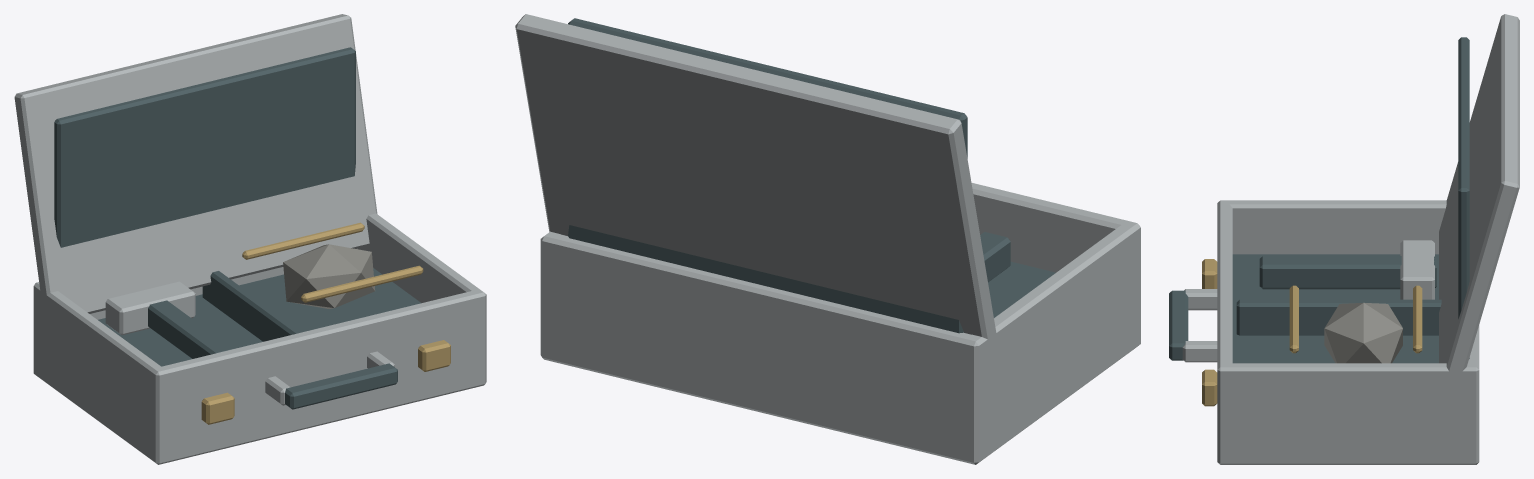
File: sample_case.glb
3 views of the same model, side by side, from view 1: azimuth 30°, elevation 25°; view 2: azimuth 150°, elevation 25°; view 3: azimuth 270°, elevation 25° (orthographic). The views are drawn at different scales.
Parts seen in each view (by area): view 1: Interior tampa, Tampa aberta, Parede.002, Parede, Base, Espuma, Parede.001, Amostra lunar, Divisoria, Cabeca martelo, Alca, Cabo martelo (+5 smaller); view 2: Tampa aberta, Parede.003, Parede, Base, Interior tampa, Parede.002, Espuma, Parede.001, Cabo martelo; view 3: Parede.001, Tampa aberta, Parede, Espuma, Cabo martelo, Divisoria, Base, Amostra lunar, Interior tampa, Parede.002, Cabeca martelo, Alca (+6 smaller).
Part boxes in pixels (<box>): Interior tampa: <box>54,47,355,247</box>; Tampa aberta: <box>14,14,377,313</box>; Parede.002: <box>151,290,482,447</box>; Parede: <box>33,282,167,449</box>; Base: <box>33,355,486,464</box>; Espuma: <box>98,268,421,366</box>; Parede.001: <box>358,213,486,369</box>; Amostra lunar: <box>283,244,375,308</box>; Divisoria: <box>202,271,302,341</box>; Cabeca martelo: <box>105,281,195,335</box>; Alca: <box>285,363,397,409</box>; Cabo martelo: <box>148,300,232,358</box>; Tampa aberta: <box>515,14,1000,360</box>; Parede.003: <box>552,234,984,441</box>; Parede: <box>963,220,1140,444</box>; Base: <box>540,316,1140,464</box>; Interior tampa: <box>568,18,967,333</box>; Parede.002: <box>971,182,1140,329</box>; Espuma: <box>988,261,1055,317</box>; Parede.001: <box>540,231,559,342</box>; Cabo martelo: <box>980,232,1010,281</box>; Parede.001: <box>1217,363,1479,449</box>; Tampa aberta: <box>1439,14,1519,392</box>; Parede: <box>1217,200,1446,254</box>; Espuma: <box>1232,254,1438,363</box>; Cabo martelo: <box>1259,256,1436,289</box>; Divisoria: <box>1236,299,1441,335</box>; Base: <box>1217,440,1479,464</box>; Amostra lunar: <box>1324,302,1402,363</box>; Interior tampa: <box>1458,37,1469,358</box>; Parede.002: <box>1217,203,1232,446</box>; Cabeca martelo: <box>1400,240,1434,299</box>; Alca: <box>1169,290,1188,360</box>.
Size of the model in its own units: 0.52 by 0.4067 by 0.4549.
